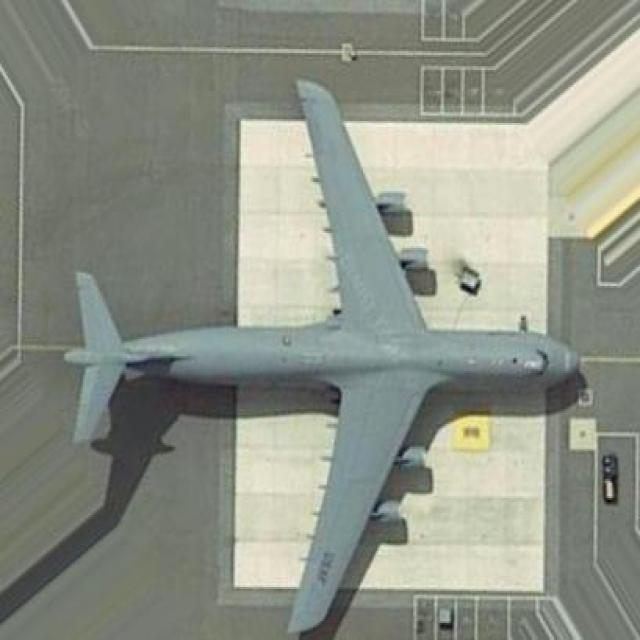C-5_TopDown: (59, 74, 588, 638)
